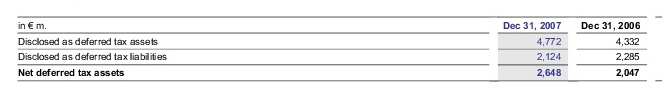table: (0, 0, 662, 98)
